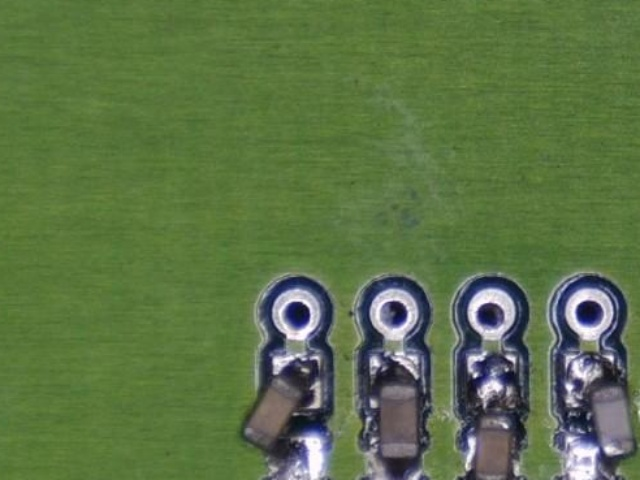pcb_defect: (239, 354, 327, 480), (560, 352, 637, 480), (462, 350, 521, 480), (463, 349, 521, 480)
